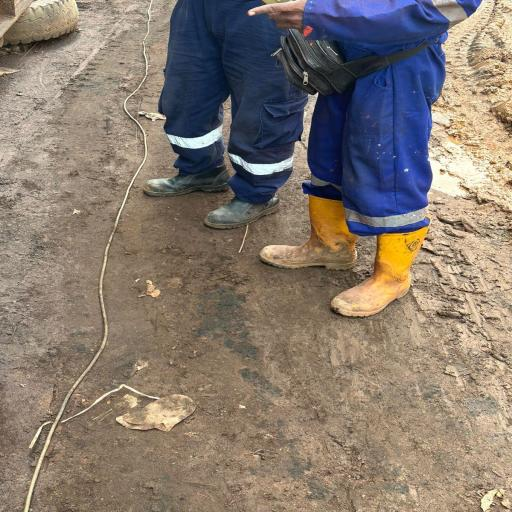safety_shoe: (325, 229, 426, 319), (259, 190, 355, 270), (206, 191, 284, 231), (142, 164, 233, 198)
